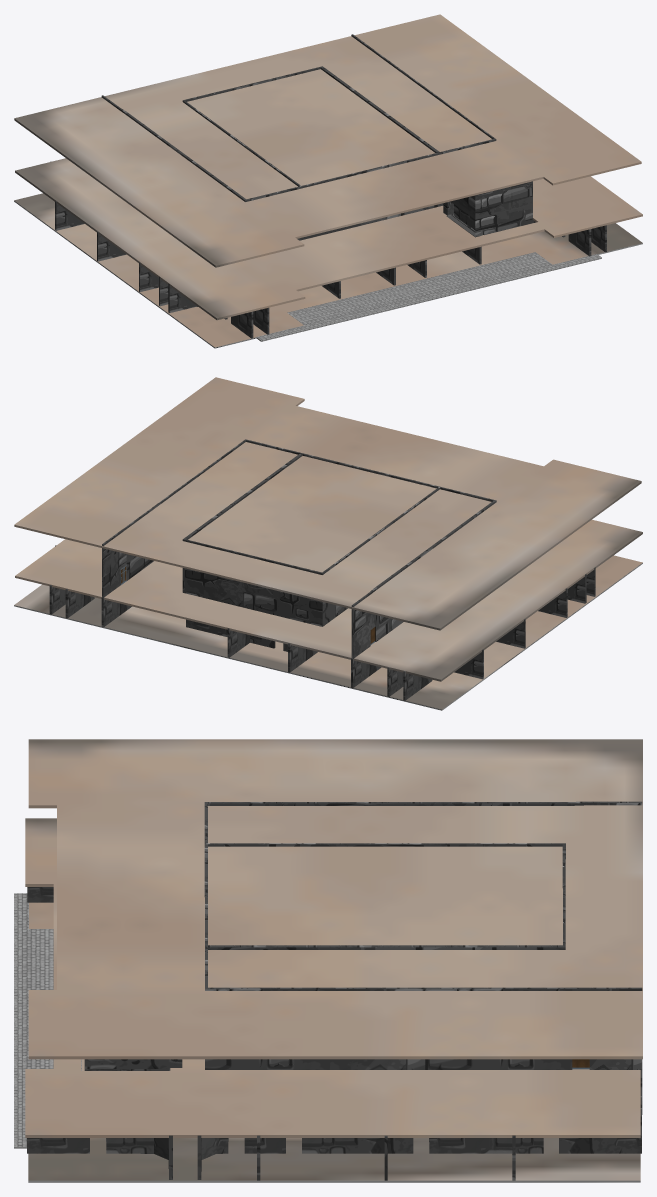
File: ParedesInterior.fbx
3 views of the same model, one above another, from view 1: azimuth 30°, elevation 25°; view 2: azimuth 150°, elevation 25°; view 3: azimuth 270°, elevation 25° (orthographic). The views are drawn at different scales.
Visible parts, largest first — view 1: Paredes Interior; view 2: Paredes Interior; view 3: Paredes Interior.
Part boxes in pixels (x1=…): Paredes Interior: x1=14, y1=14, x2=642, y2=348; Paredes Interior: x1=14, y1=377, x2=642, y2=710; Paredes Interior: x1=14, y1=739, x2=642, y2=1182.
Size of the model in its own units: 1406 by 287 by 1174.
